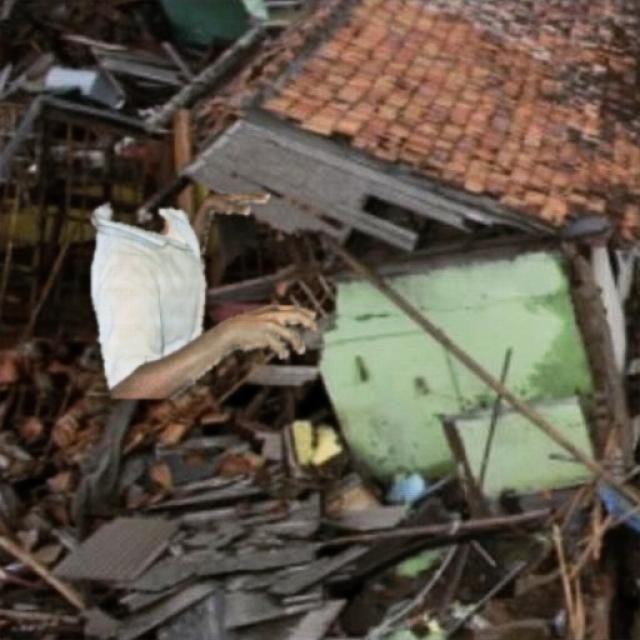Person in Rubble: (91, 194, 315, 398)
